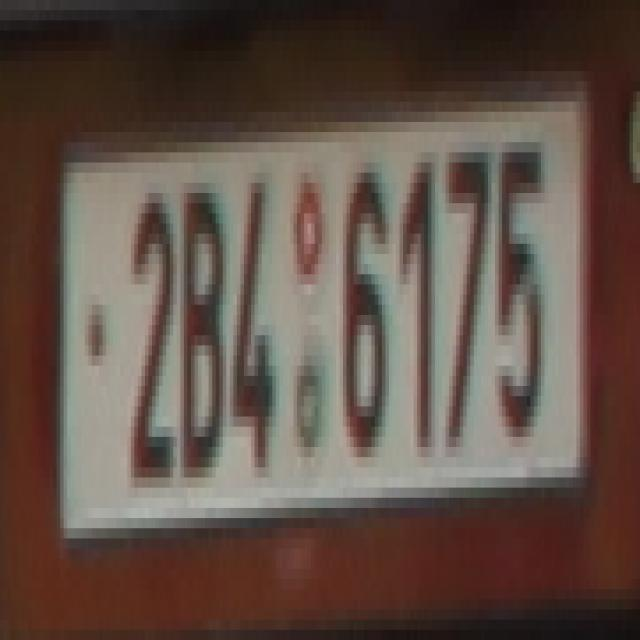1: (400, 142, 434, 447)
2: (128, 192, 174, 478)
4: (226, 182, 276, 468)
5: (498, 142, 548, 427)
6: (336, 173, 389, 437)
7: (438, 142, 492, 447)
B: (180, 192, 227, 478)
